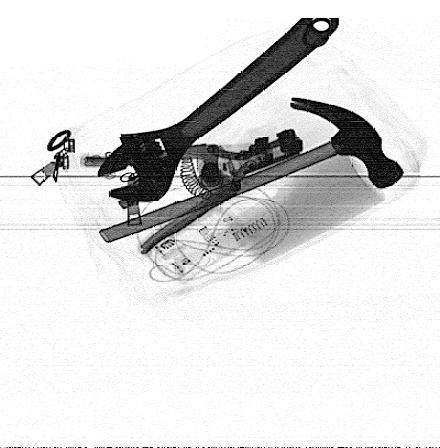Hammer: (94, 93, 408, 245)
Pliers: (76, 128, 305, 260)
Wrench: (93, 8, 339, 201)
